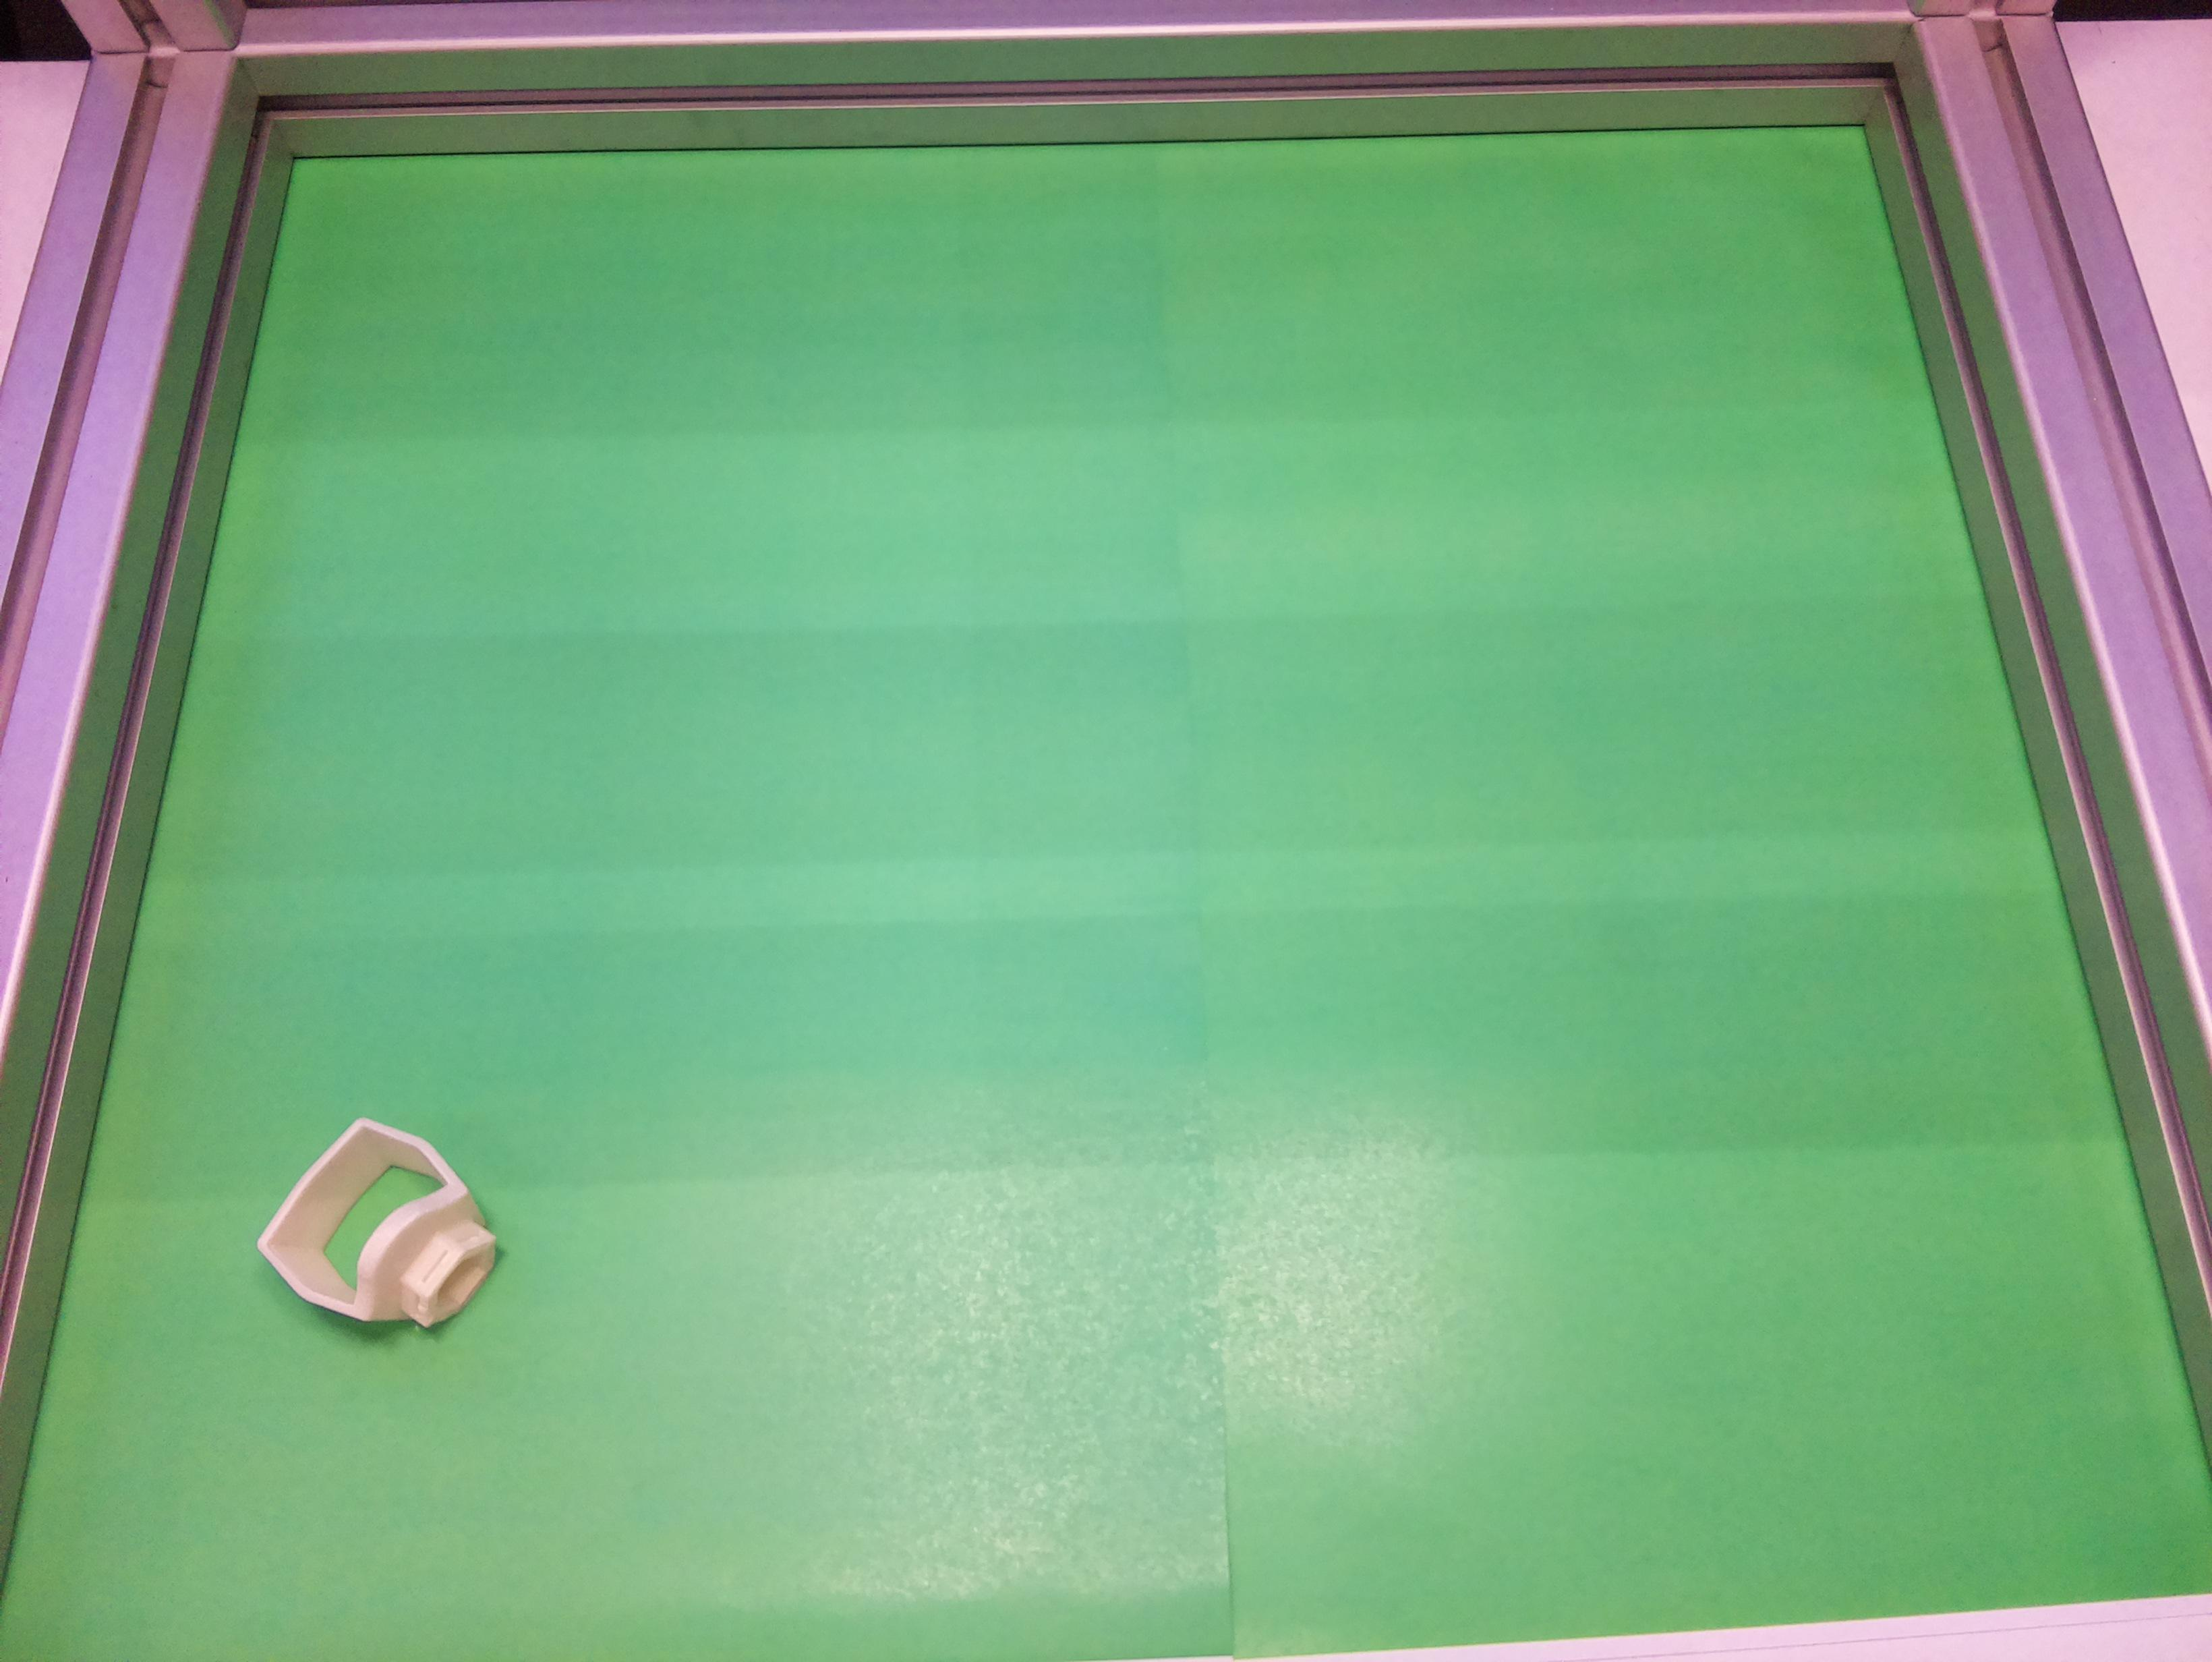tool_holder: (241, 1096, 527, 1383)
